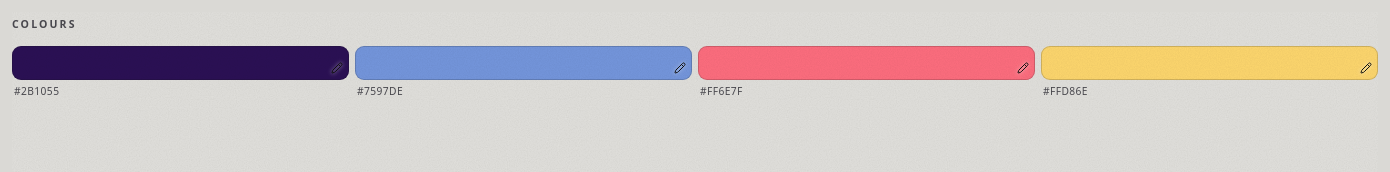
Scenario: ColorEditor › picking a color repaints the wallpaper with it
Type "#00ff88" into the colour field named "Colour 3" at (1023, 68), box [698,46,1035,80]
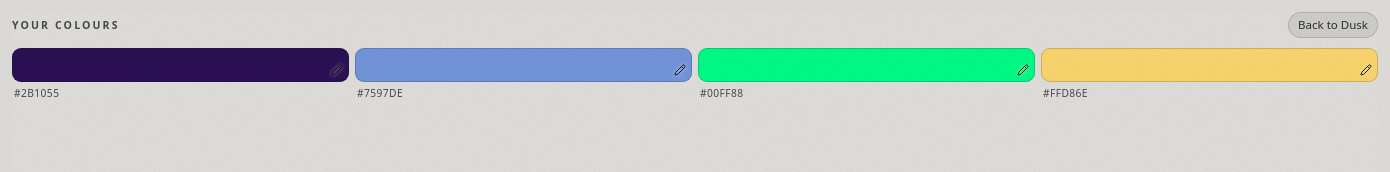
Check: the button with aria-label "Copy #00FF88" is shown, box [698,86,1035,102]
